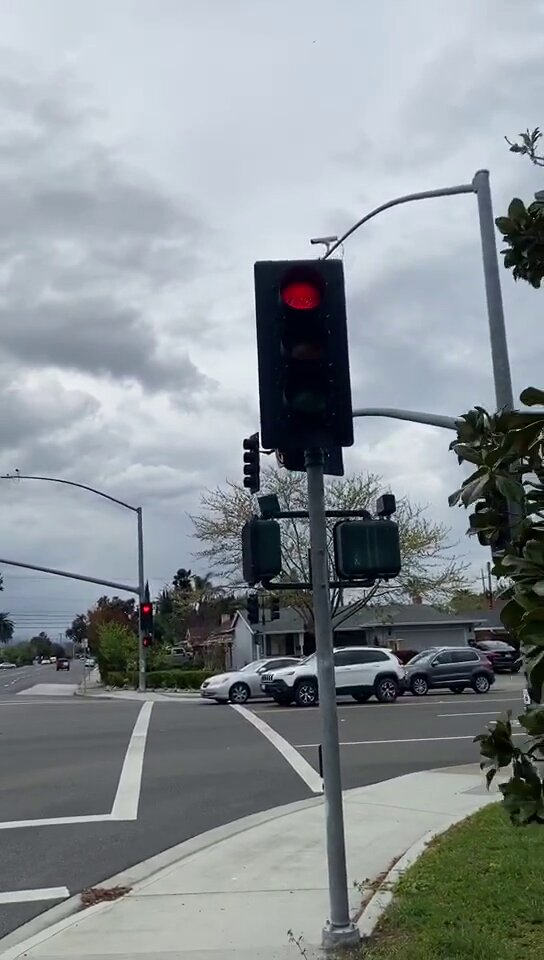red_light: (260, 262, 345, 444), (140, 601, 153, 632)
